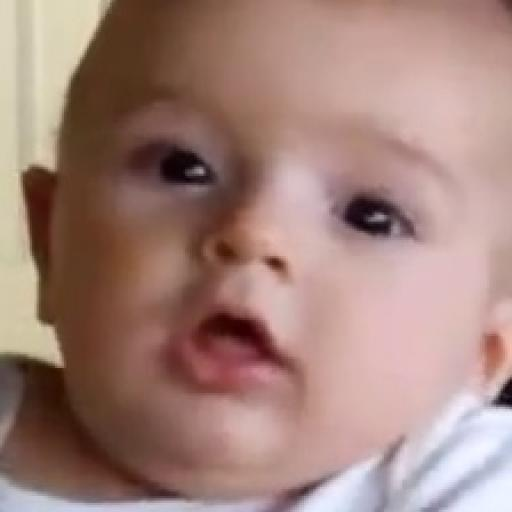Autism: (42, 28, 502, 489)
